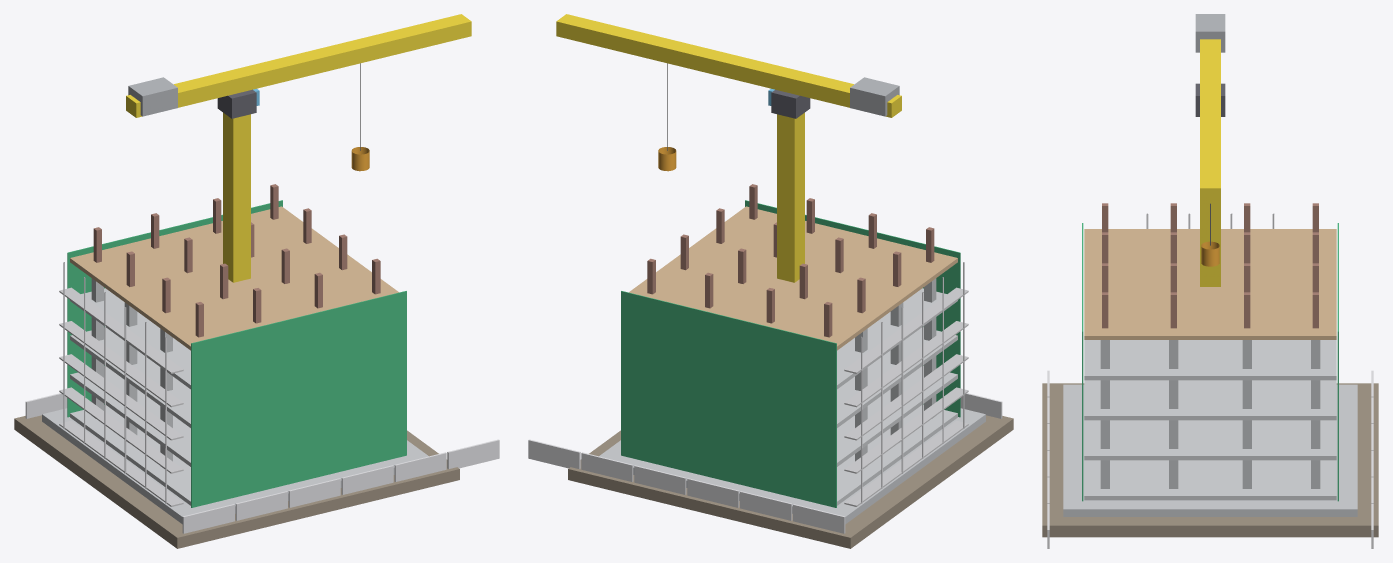
File: highrise_under_construction.glb
3 views of the same model, side by side, from view 1: azimuth 30°, elevation 25°; view 2: azimuth 150°, elevation 25°; view 3: azimuth 270°, elevation 25° (orthographic). The views are drawn at different scales.
Parts seen in each view (by area): view 1: SafetyNettingSouth, FloorSlab_5_Formwork, CraneJib (×3), FoundationEarth, TowerCraneMast, ConcreteRaftFoundation, SafetyNettingNorth, FloorSlab_1, FloorSlab_2, FloorSlab_3, FloorSlab_4, ScaffoldDeck_1 (+12 smaller); view 2: SafetyNettingNorth, FloorSlab_5_Formwork, CraneJib (×3), FoundationEarth, TowerCraneMast, ConcreteRaftFoundation, SafetyNettingSouth, FloorSlab_1, FloorSlab_2, FloorSlab_3, FloorSlab_4, ScaffoldDeck_1 (+12 smaller); view 3: FloorSlab_5_Formwork, FoundationEarth, ConcreteRaftFoundation, FloorSlab_1, FloorSlab_2, FloorSlab_3, FloorSlab_4, CraneJib (×4), TowerCraneMast, SafetyNettingNorth, SafetyNettingSouth.
Part boxes in pixels (x1=…): SafetyNettingSouth: x1=191, y1=291, x2=406, y2=507; FloorSlab_5_Formwork: x1=70, y1=206, x2=398, y2=350; CraneJib (×3): x1=126, y1=14, x2=471, y2=117; FoundationEarth: x1=14, y1=415, x2=459, y2=548; TowerCraneMast: x1=223, y1=112, x2=250, y2=282; ConcreteRaftFoundation: x1=42, y1=408, x2=428, y2=524; SafetyNettingNorth: x1=67, y1=200, x2=282, y2=417; FloorSlab_1: x1=70, y1=405, x2=190, y2=505; FloorSlab_2: x1=70, y1=366, x2=190, y2=466; FloorSlab_3: x1=70, y1=327, x2=190, y2=427; FloorSlab_4: x1=70, y1=288, x2=190, y2=389; ScaffoldDeck_1: x1=59, y1=387, x2=183, y2=473; SafetyNettingNorth: x1=621, y1=291, x2=836, y2=507; FloorSlab_5_Formwork: x1=629, y1=206, x2=957, y2=350; CraneJib (×3): x1=556, y1=14, x2=901, y2=117; FoundationEarth: x1=568, y1=415, x2=1013, y2=548; TowerCraneMast: x1=777, y1=112, x2=804, y2=282; ConcreteRaftFoundation: x1=599, y1=408, x2=985, y2=524; SafetyNettingSouth: x1=745, y1=200, x2=960, y2=417; FloorSlab_1: x1=837, y1=405, x2=957, y2=505; FloorSlab_2: x1=837, y1=366, x2=957, y2=466; FloorSlab_3: x1=837, y1=327, x2=957, y2=427; FloorSlab_4: x1=837, y1=288, x2=957, y2=389; ScaffoldDeck_1: x1=844, y1=387, x2=968, y2=473; FloorSlab_5_Formwork: x1=1084, y1=229, x2=1336, y2=339; FoundationEarth: x1=1042, y1=383, x2=1378, y2=537; ConcreteRaftFoundation: x1=1063, y1=384, x2=1357, y2=516; FloorSlab_1: x1=1084, y1=460, x2=1336, y2=500; FloorSlab_2: x1=1084, y1=420, x2=1336, y2=460; FloorSlab_3: x1=1084, y1=380, x2=1336, y2=420; FloorSlab_4: x1=1084, y1=340, x2=1336, y2=380; CraneJib (×4): x1=1195, y1=14, x2=1225, y2=266; TowerCraneMast: x1=1200, y1=203, x2=1220, y2=286; SafetyNettingNorth: x1=1337, y1=223, x2=1338, y2=501; SafetyNettingSouth: x1=1082, y1=223, x2=1083, y2=501.
Size of the model in its own units: 42 by 42.05 by 32.
